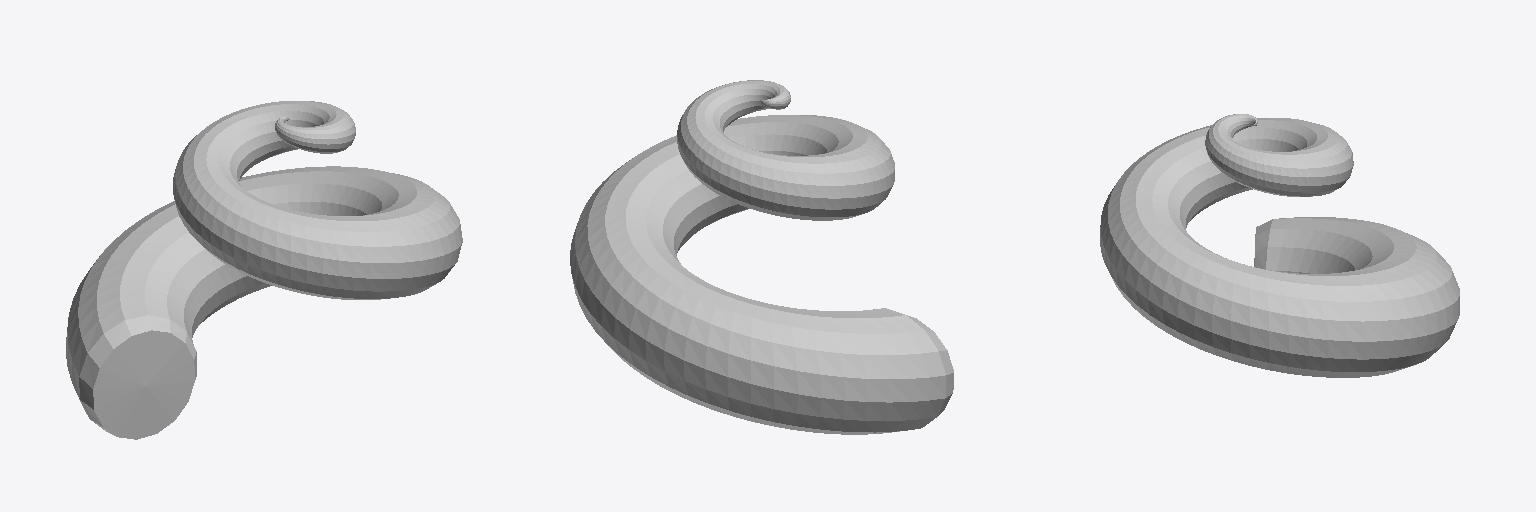
The model's file is spiral.obj.
The picture shows the model from 3 angles: view 1: azimuth 30°, elevation 25°; view 2: azimuth 150°, elevation 25°; view 3: azimuth 270°, elevation 25°; orthographic projection.
Visible parts, largest first — view 1: Group8356; view 2: Group8356; view 3: Group8356.
Boxes of the visible parts, <box> form: Group8356: <box>66,101,462,439</box>; Group8356: <box>570,80,953,434</box>; Group8356: <box>1100,114,1459,377</box>.
Size of the model in its own units: 1.97 by 1.54 by 1.73.